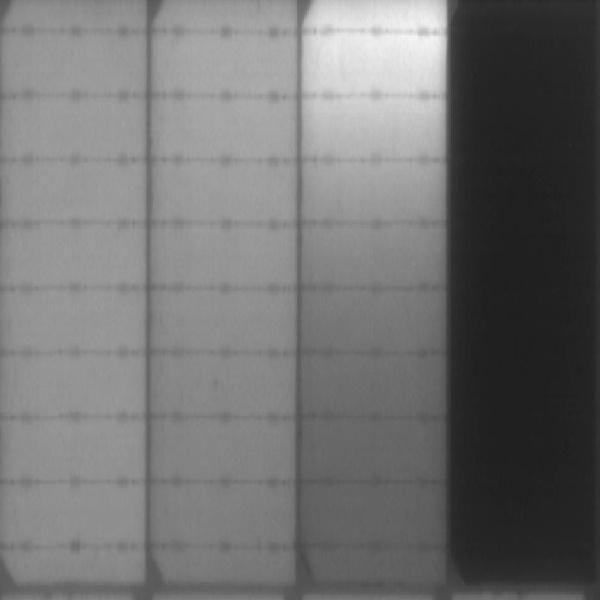no_electricity: (449, 1, 600, 580)
